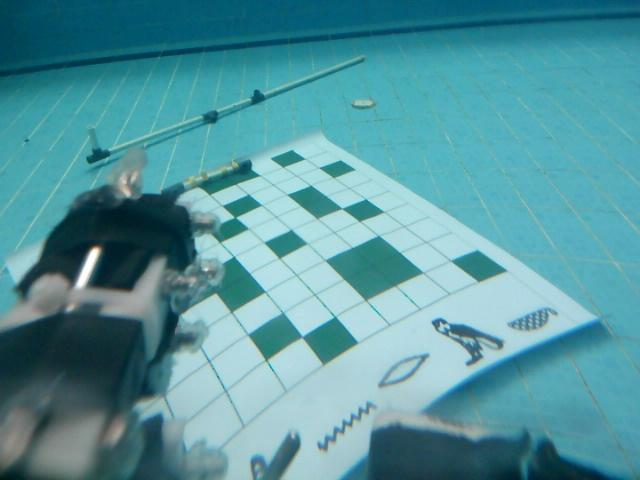Ankh: (504, 303, 559, 335)
Mouth: (377, 352, 429, 390)
Owl: (429, 316, 506, 366)
Water: (317, 400, 377, 454)
